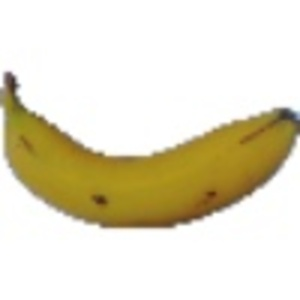banana: (2, 66, 299, 237)
